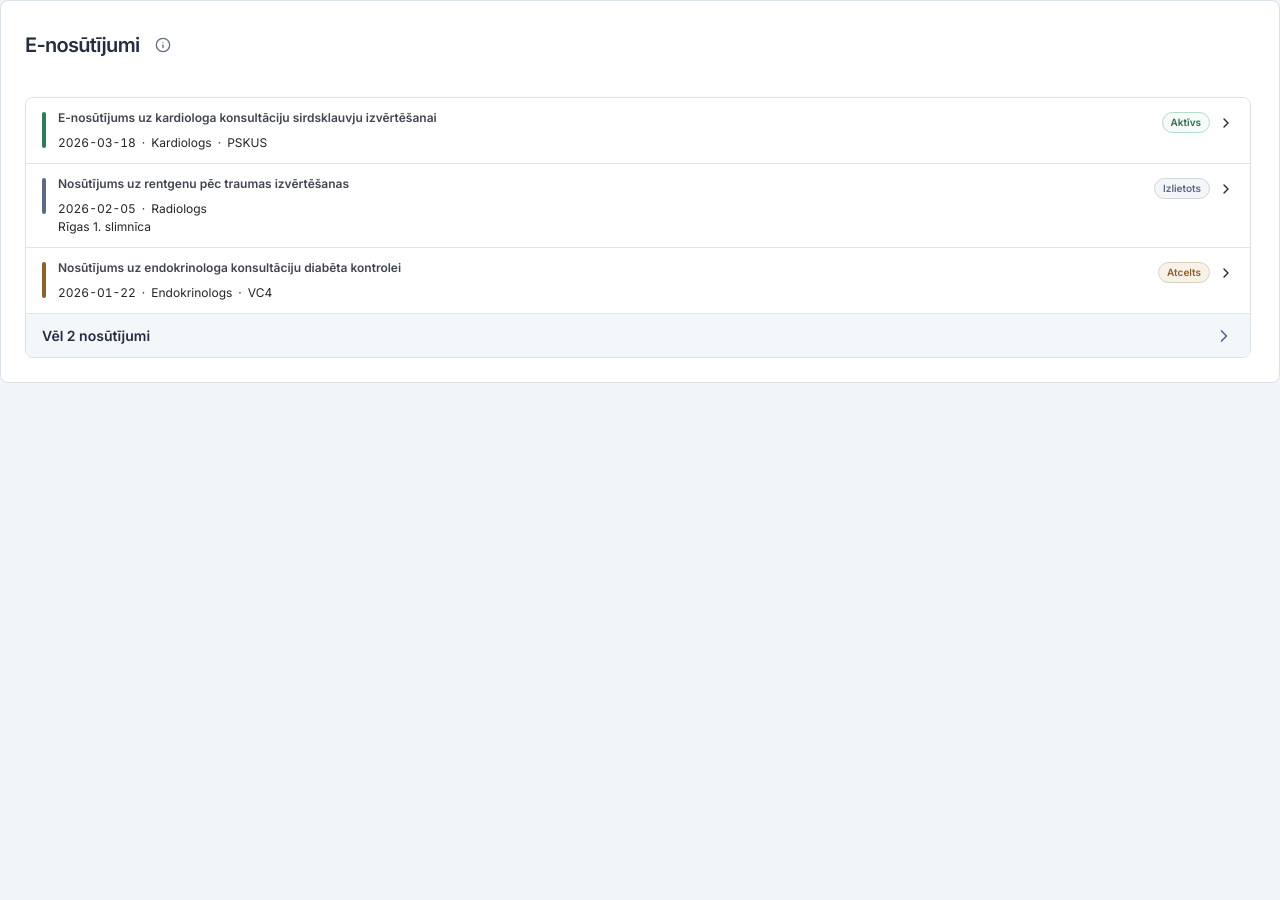
Test: ReferralHistory › renders the referral timeline when a referral is opened
Click the button "E-nosūtījums uz kardiologa konsultāciju". click: click(247, 118)
box: [26,98,1250,163]
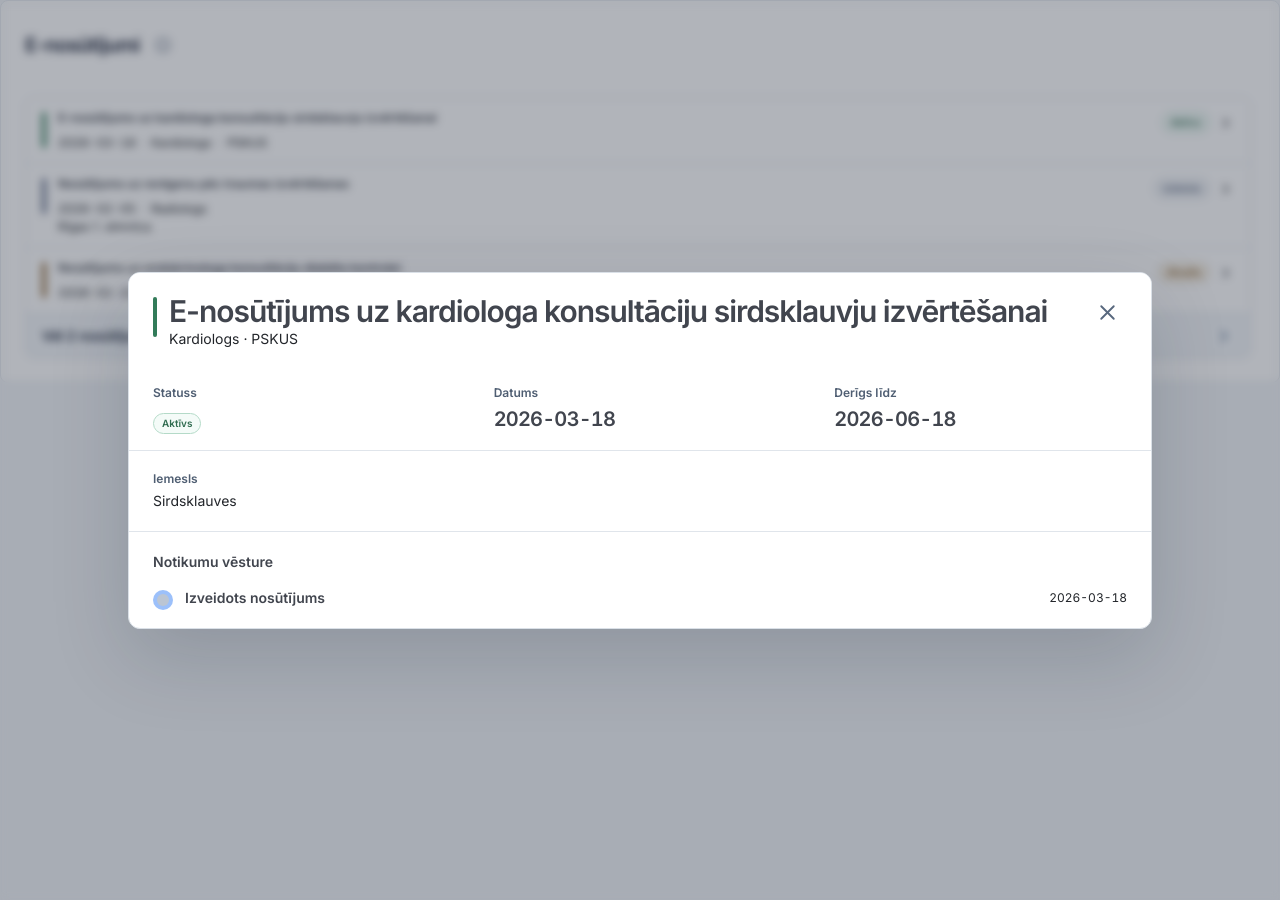
Now the heading "Notikumu vēsture" is shown, box [153,552,273,570]
